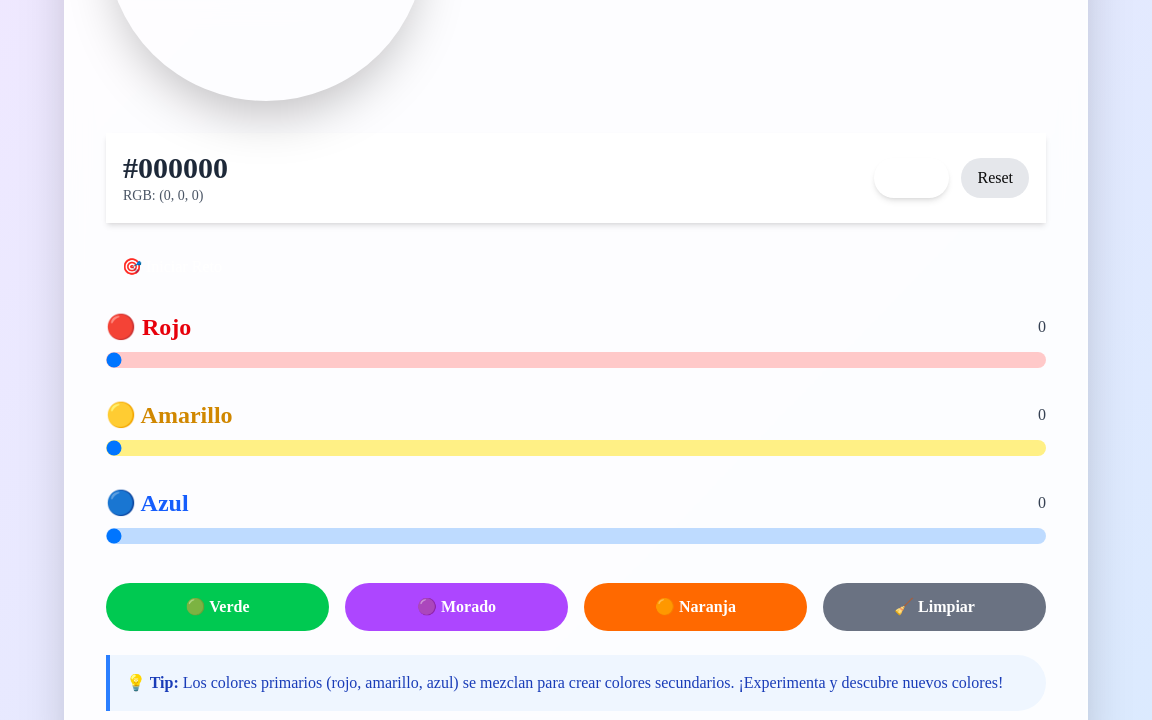
ColorMixer Component › debe cambiar el valor del slider rojo
(page scrolled)
Set the slider with test id "red-slider" to "150" at point(658, 360), box x1=106 y1=352 x2=1046 y2=368
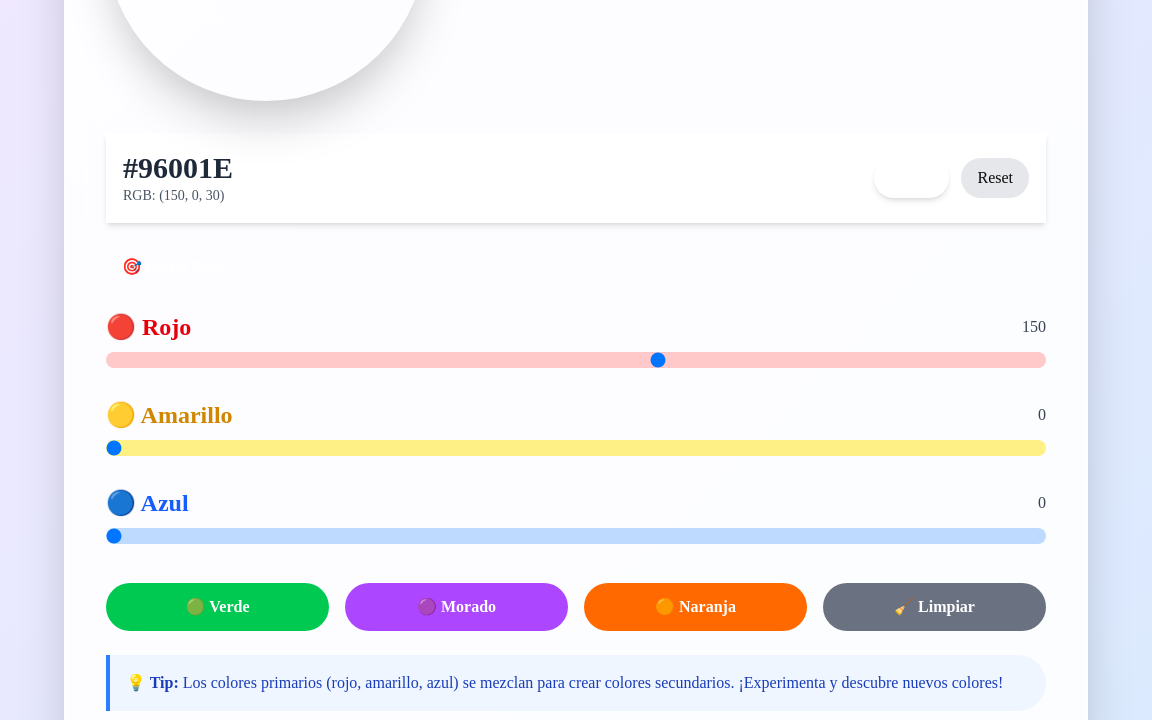
Result: the text "150" is shown at x1=1022 y1=315 x2=1046 y2=339
